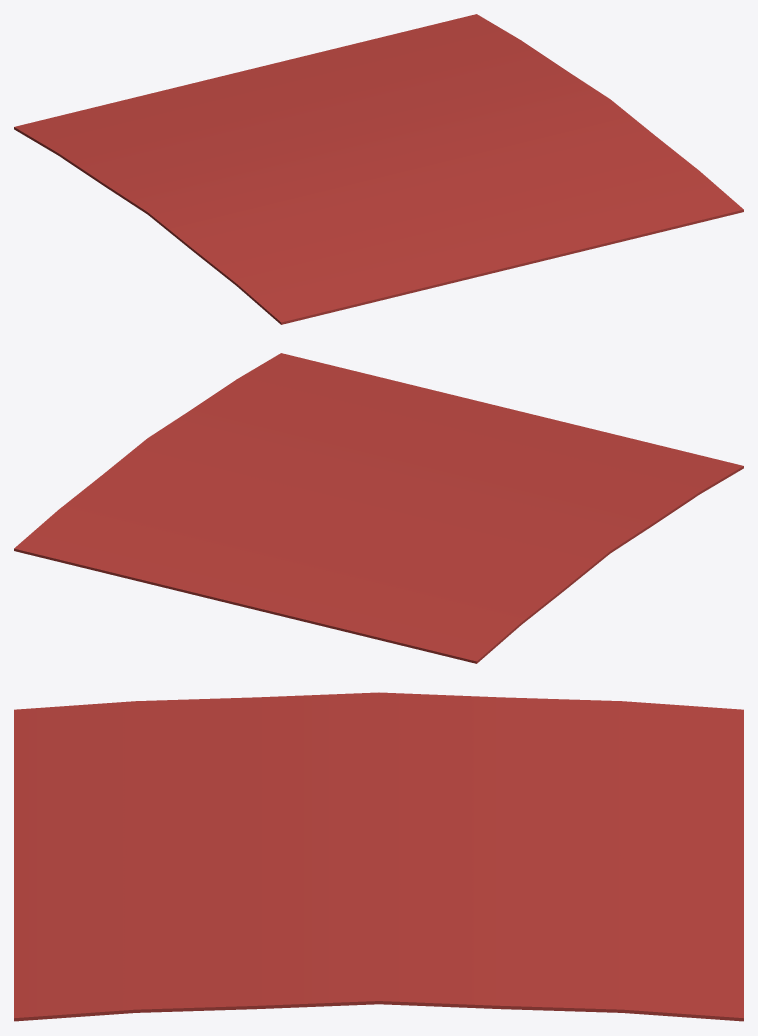
Rendered from plastic_lod1.glb.
3 renders of one model, top to bottom at view 1: azimuth 30°, elevation 25°; view 2: azimuth 150°, elevation 25°; view 3: azimuth 270°, elevation 25°, orthographic. The views are drawn at different scales.
Parts seen in each view (by area): view 1: plastic_lod1; view 2: plastic_lod1; view 3: plastic_lod1.
Part boxes in pixels (<box>): plastic_lod1: <box>14,14,743,324</box>; plastic_lod1: <box>14,353,743,663</box>; plastic_lod1: <box>14,692,743,1021</box>.
Size of the model in its own units: 1 by 0.031 by 1.
